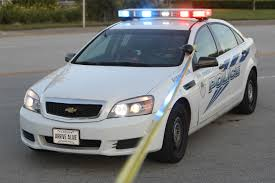special: (18, 8, 258, 165)
